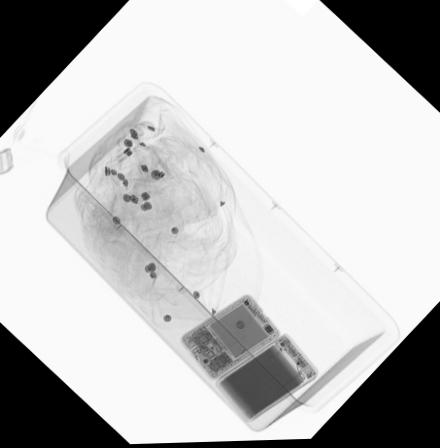Powerbank: (215, 333, 318, 421)
